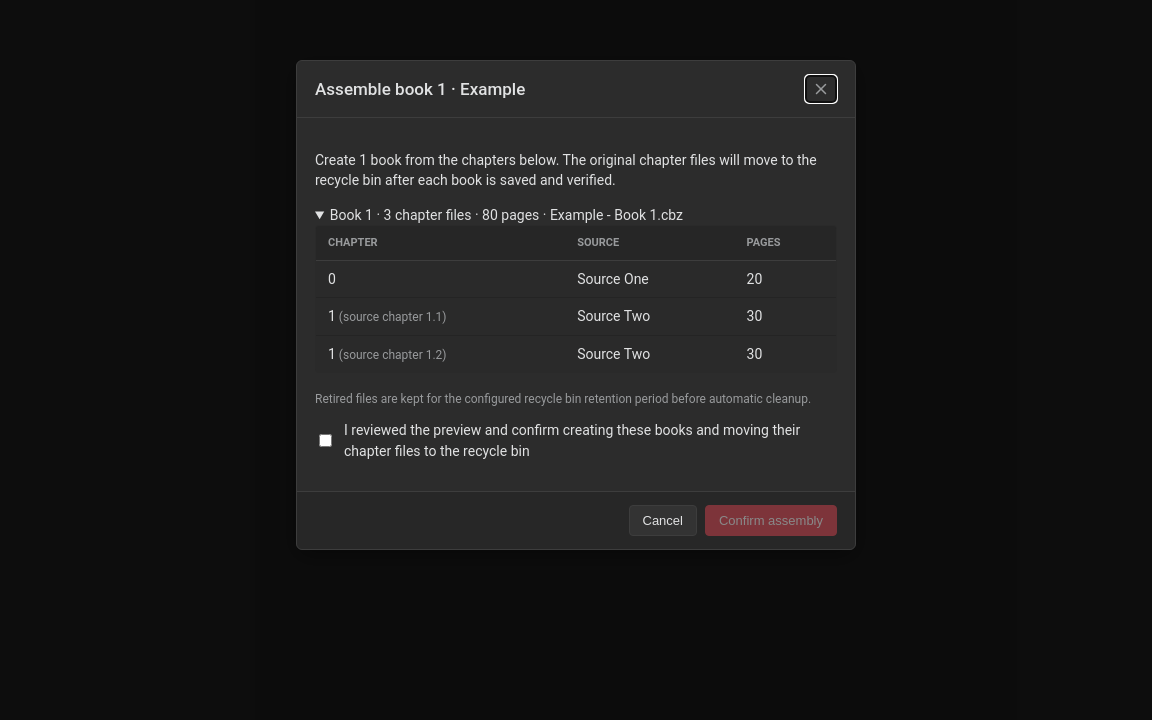
prevents repeated confirmation and ignores completion after unmount
What coordinates should you click on to do the following:
click the checkbox named "I reviewed the preview and confirm creating these books and moving their chapter files to the recycle bin"
I would click on:
 (326, 441)
Its box is left=319, top=434, right=332, bottom=447.
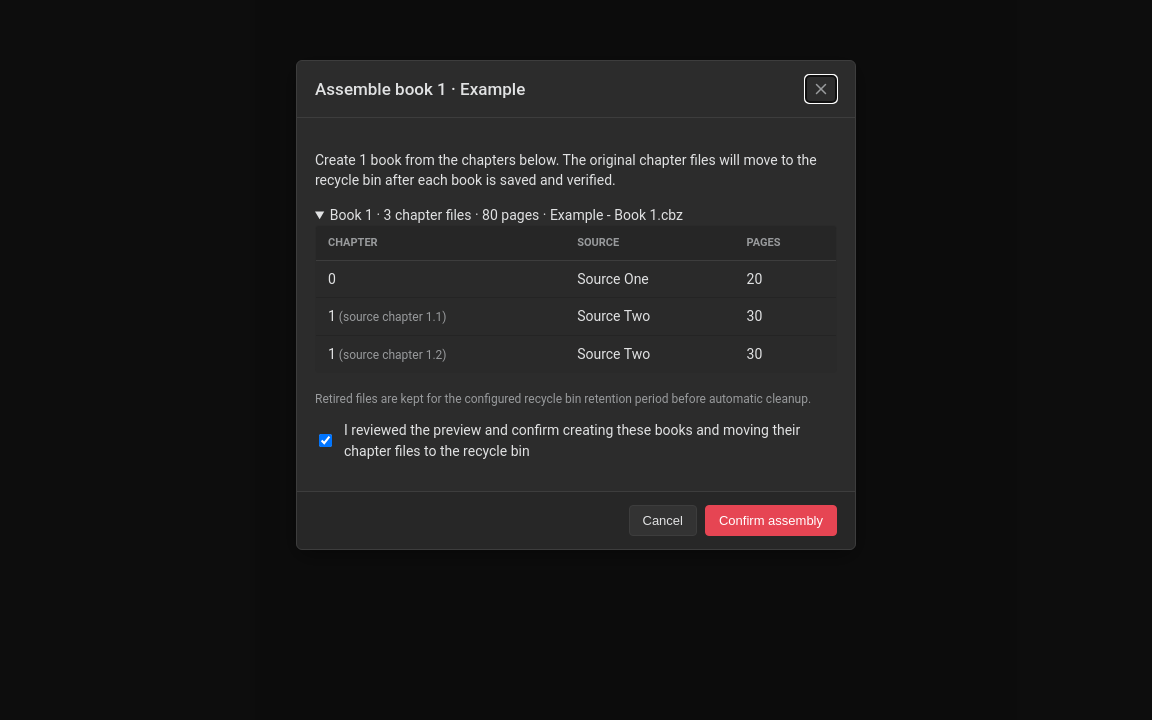
What coordinates should you click on to do the following:
click the button "Confirm assembly"
I would click on:
 (771, 520)
Its box is left=705, top=505, right=837, bottom=536.
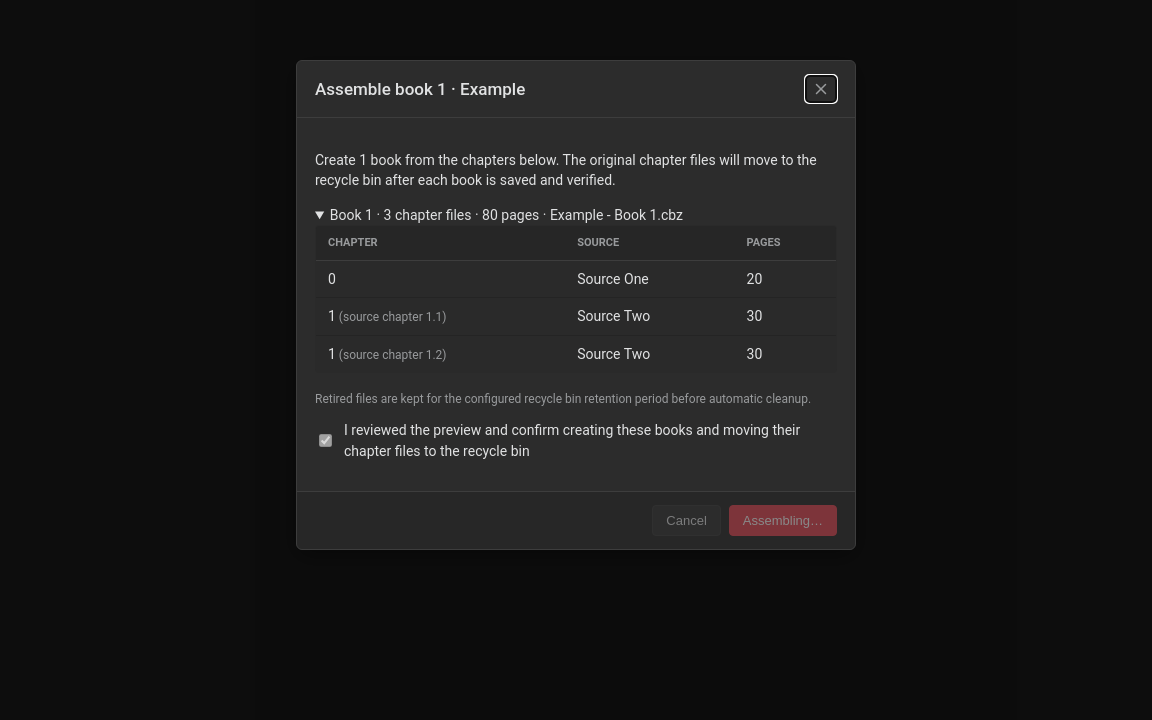
Expected: the button "Cancel" is disabled, left=652, top=505, right=721, bottom=536
Expected: the button "Assembling…" is disabled, left=729, top=505, right=837, bottom=536
